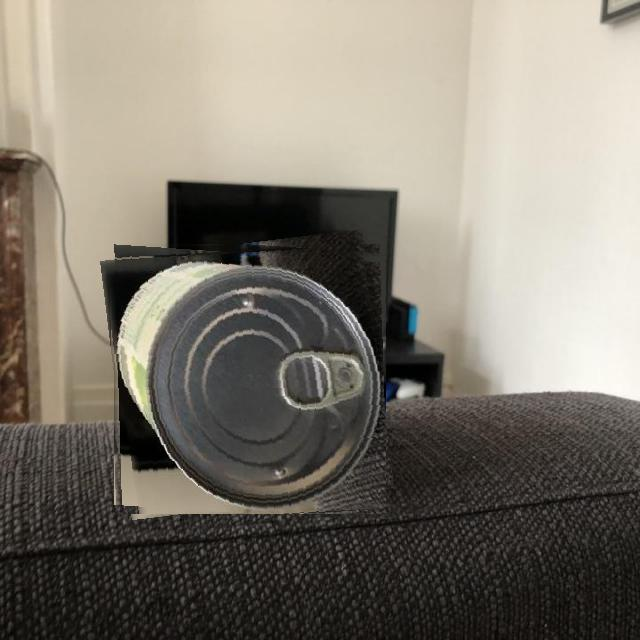recyclable: (108, 235, 386, 514)
